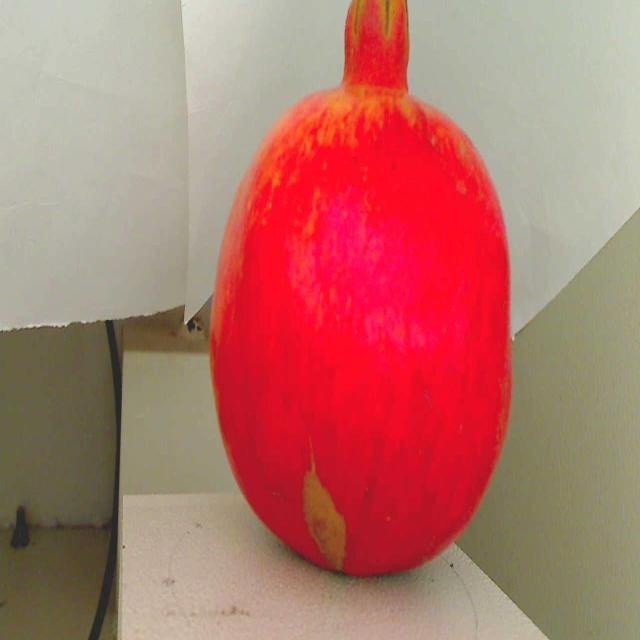pomegranate: (206, 2, 527, 616)
